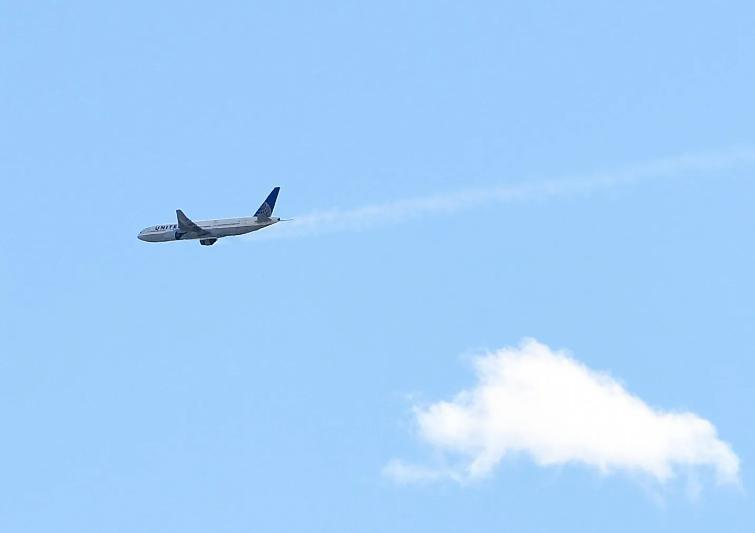aircraft: (135, 187, 282, 246)
